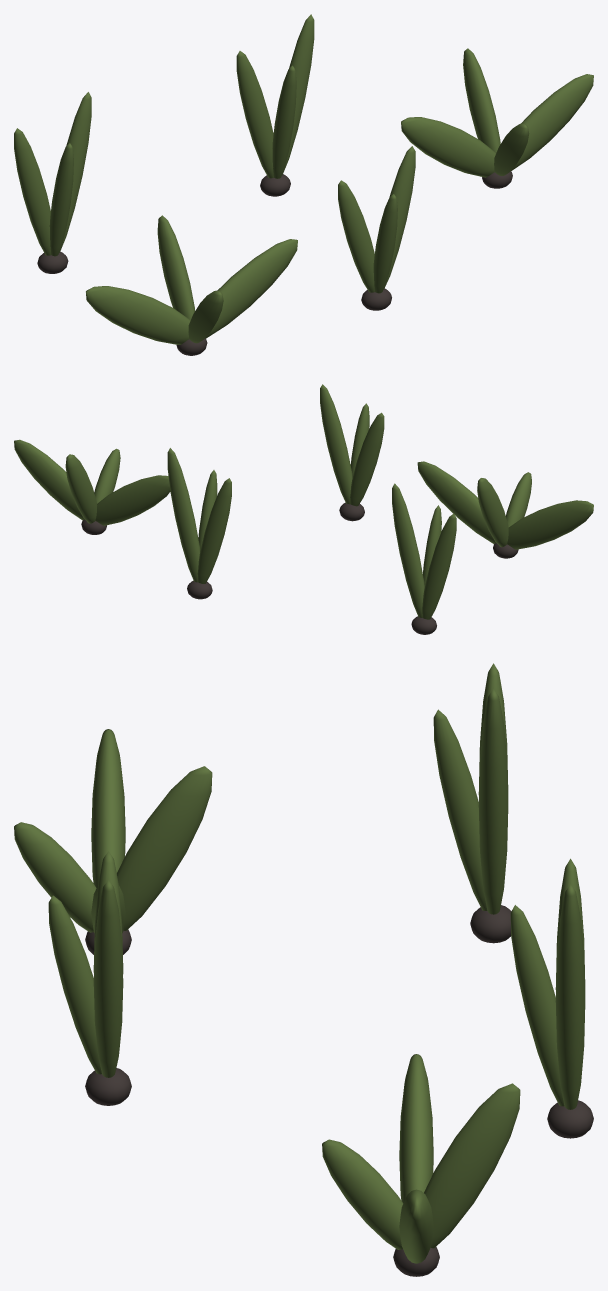
The model's file is CMU3DRMCGrassb5.glb.
The picture shows the model from 3 angles, top to bottom: view 1: azimuth 30°, elevation 25°; view 2: azimuth 150°, elevation 25°; view 3: azimuth 270°, elevation 25°; orthographic projection. The views are drawn at different scales.
Visible parts, largest first — view 1: tuft 2 continuous leaf 0, tuft 4 continuous leaf 0, tuft 2 continuous leaf 1, tuft 4 continuous leaf 1, tuft 0 continuous leaf 0, tuft 3 continuous leaf 0, tuft 1 continuous leaf 0, tuft 2 continuous leaf 2, tuft 4 continuous leaf 2, tuft 0 continuous leaf 2, tuft 3 continuous leaf 2, tuft 0 continuous leaf 1 (+8 smaller); view 2: tuft 2 continuous leaf 0, tuft 4 continuous leaf 0, tuft 2 continuous leaf 1, tuft 0 continuous leaf 1, tuft 3 continuous leaf 1, tuft 4 continuous leaf 1, tuft 1 continuous leaf 1, tuft 3 continuous leaf 0, tuft 0 continuous leaf 0, tuft 1 continuous leaf 0, tuft 2 continuous leaf 2, tuft 4 continuous leaf 2 (+8 smaller); view 3: tuft 2 continuous leaf 2, tuft 4 continuous leaf 2, tuft 3 continuous leaf 1, tuft 0 continuous leaf 1, tuft 1 continuous leaf 1, tuft 3 continuous leaf 2, tuft 0 continuous leaf 2, tuft 4 continuous leaf 3, tuft 2 continuous leaf 3, tuft 1 continuous leaf 2, tuft 2 continuous leaf 0, tuft 4 continuous leaf 0 (+8 smaller).
Boxes of the visible parts, x1,y1,x2,y2 form: tuft 2 continuous leaf 0: (86,286,190,344); tuft 4 continuous leaf 0: (401,117,495,177); tuft 2 continuous leaf 1: (205,239,297,338); tuft 4 continuous leaf 1: (511,74,593,170); tuft 0 continuous leaf 0: (236,51,273,178); tuft 3 continuous leaf 0: (14,128,51,255); tuft 1 continuous leaf 0: (338,180,374,292); tuft 2 continuous leaf 2: (157,215,194,320); tuft 4 continuous leaf 2: (463,48,500,153); tuft 0 continuous leaf 2: (272,65,296,178); tuft 3 continuous leaf 2: (49,143,73,256); tuft 0 continuous leaf 1: (282,14,314,175); tuft 2 continuous leaf 0: (507,500,593,549); tuft 4 continuous leaf 0: (95,475,170,525); tuft 2 continuous leaf 1: (417,461,495,543); tuft 0 continuous leaf 1: (167,448,199,582); tuft 3 continuous leaf 1: (392,483,424,617); tuft 4 continuous leaf 1: (14,439,84,520); tuft 1 continuous leaf 1: (320,384,352,504); tuft 3 continuous leaf 0: (422,513,456,619); tuft 0 continuous leaf 0: (197,478,231,583); tuft 1 continuous leaf 0: (350,412,384,506); tuft 2 continuous leaf 2: (477,478,508,547); tuft 4 continuous leaf 2: (65,454,97,523); tuft 2 continuous leaf 2: (117,766,212,930); tuft 4 continuous leaf 2: (424,1083,520,1248); tuft 3 continuous leaf 1: (478,689,508,914); tuft 0 continuous leaf 1: (555,884,585,1109); tuft 1 continuous leaf 1: (93,880,123,1077); tuft 3 continuous leaf 2: (433,709,487,910); tuft 0 continuous leaf 2: (510,905,564,1106); tuft 4 continuous leaf 3: (322,1139,403,1249); tuft 2 continuous leaf 3: (14,822,96,932); tuft 1 continuous leaf 2: (48,895,101,1074); tuft 2 continuous leaf 0: (91,729,125,887); tuft 4 continuous leaf 0: (399,1054,433,1203).
Bounding box in the file's own units: 0.9178 × 0.2506 × 0.4707.
